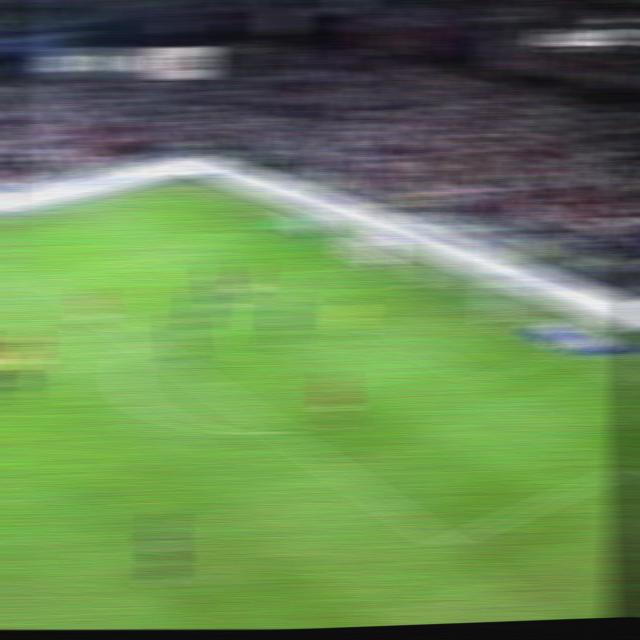bigarea_bottom_inner: (425, 525, 463, 557)
bigarea_top_inner: (34, 268, 70, 296)
bigarea_top_outter: (254, 216, 288, 234)
bottom_arc_area_intersection: (260, 416, 297, 443)
corner: (164, 176, 197, 193)
smallarea_bottom_inner: (463, 364, 498, 392)
smallarea_bottom_outter: (544, 342, 576, 361)
smallarea_top_inner: (278, 276, 309, 294)
smallarea_top_outter: (343, 253, 380, 274)
top_arc_area_intersection: (125, 329, 161, 355)
